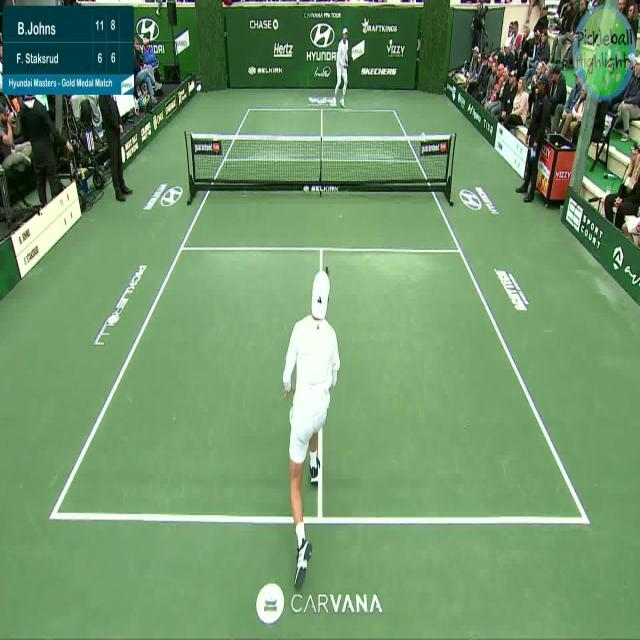ball: (388, 36, 394, 46)
